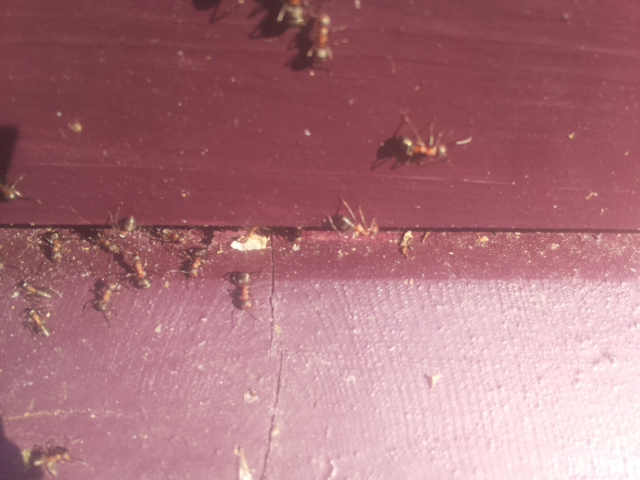ant: (21, 441, 78, 479), (325, 210, 387, 243), (391, 130, 452, 162), (306, 10, 337, 63), (227, 263, 253, 317), (128, 247, 152, 292), (92, 278, 120, 316), (18, 277, 56, 302), (38, 230, 64, 264), (29, 303, 50, 344), (396, 226, 417, 263), (0, 178, 20, 206), (115, 215, 138, 238)
